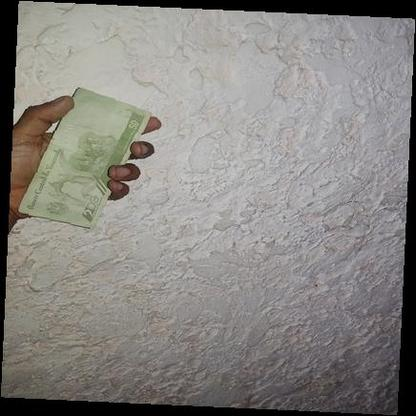fifty-back-vef: (17, 86, 152, 228)
